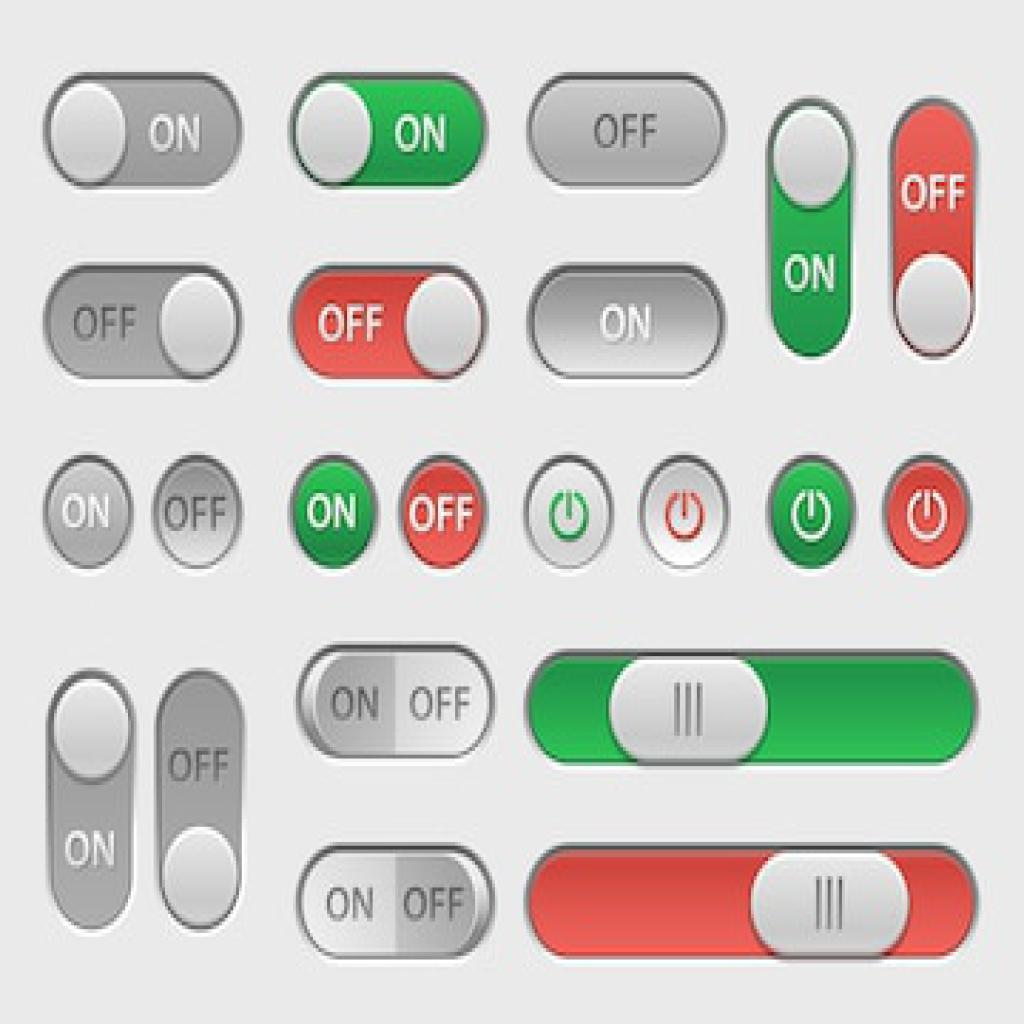button: (524, 261, 730, 381), (524, 69, 728, 190)
switch: (291, 841, 498, 960), (289, 263, 492, 381), (294, 644, 495, 761), (44, 265, 244, 382), (42, 74, 242, 189), (290, 71, 487, 187)
